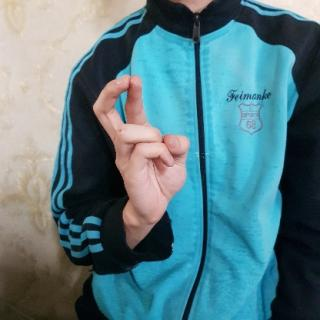ZAY: (92, 68, 193, 234)
